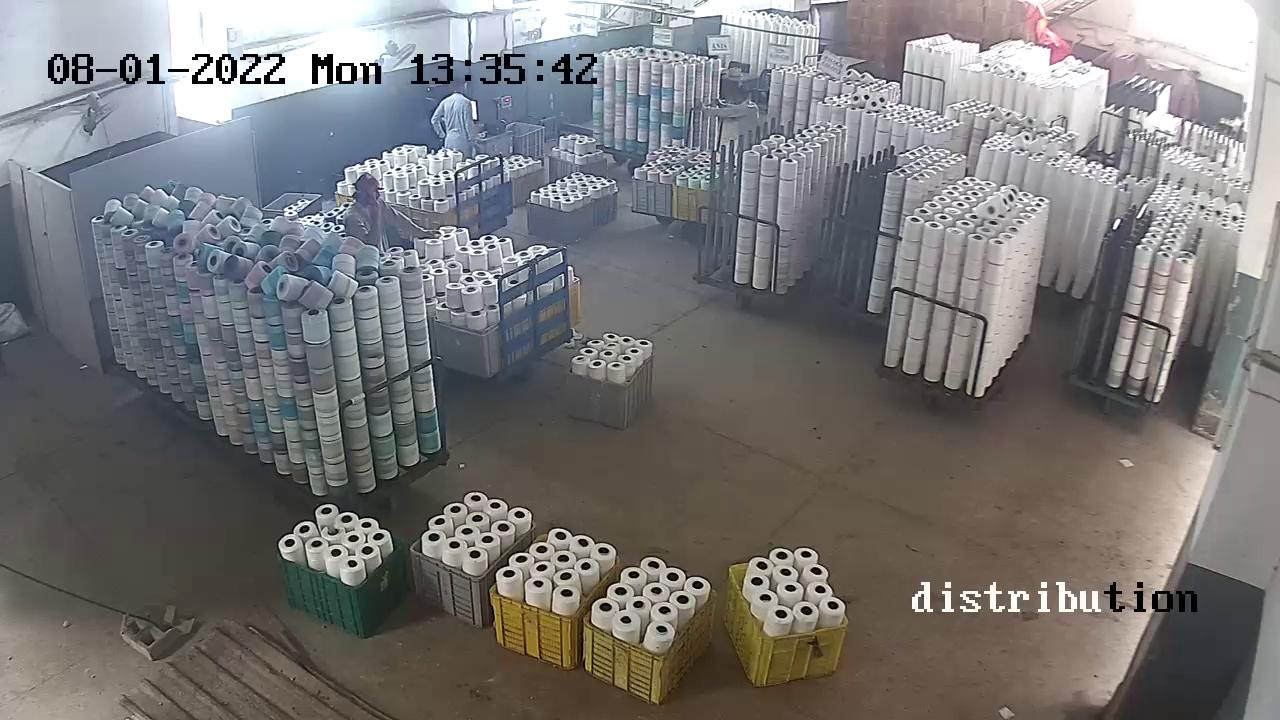person: (429, 77, 477, 147), (351, 170, 394, 230), (720, 83, 752, 132)
